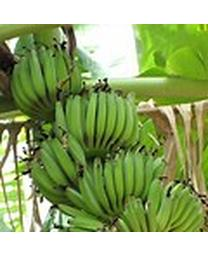banana: (5, 27, 206, 228)
